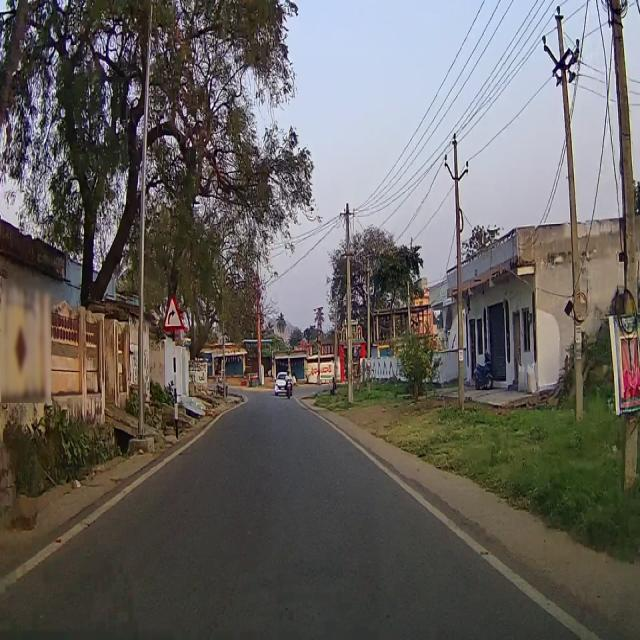right-hand-curve: (162, 296, 183, 326)
